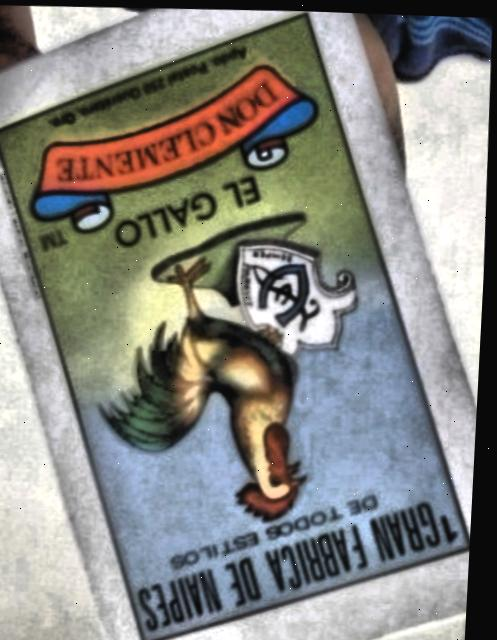El Gallo: (0, 13, 473, 640)
